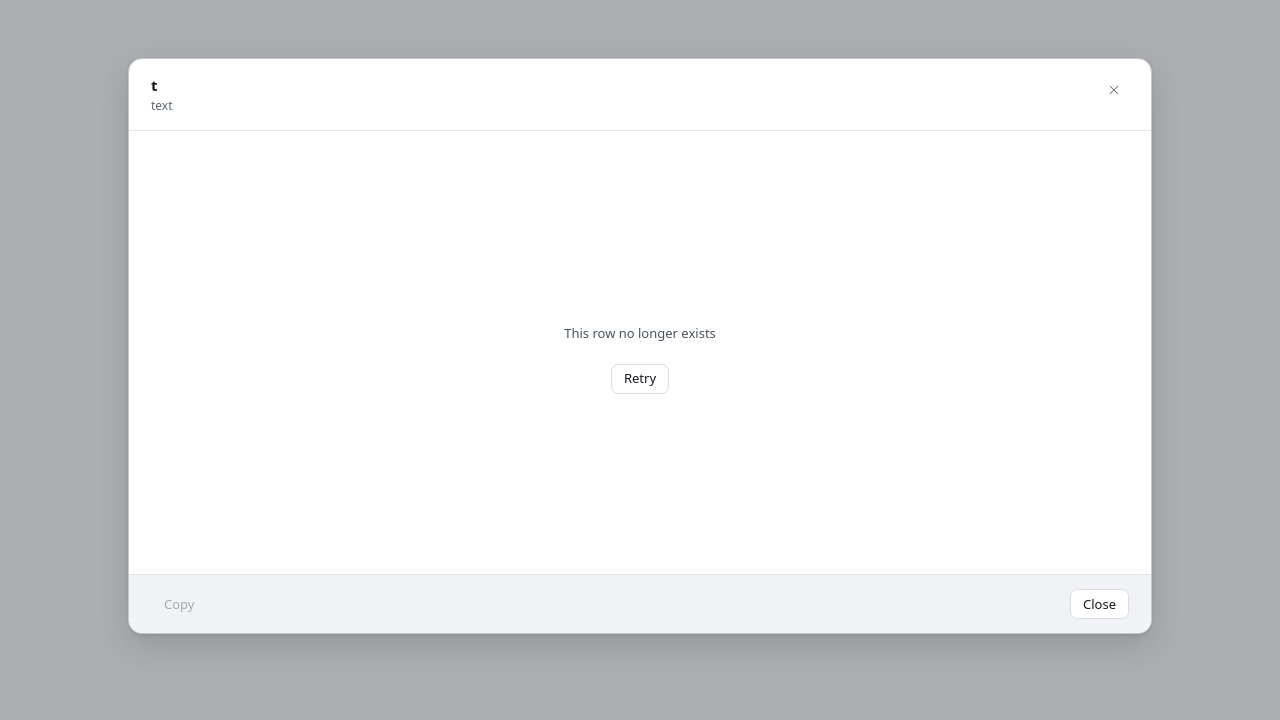
ValueEditor › is read-only with a reason, and shows load errors with Retry
The image size is (1280, 720).
Expected: the text "This row no longer exists" is shown, x1=564 y1=324 x2=716 y2=343
What coordinates should you click on to do the following:
click the button "Retry"
I would click on:
 (640, 379)
Its box is x1=611 y1=364 x2=669 y2=394.
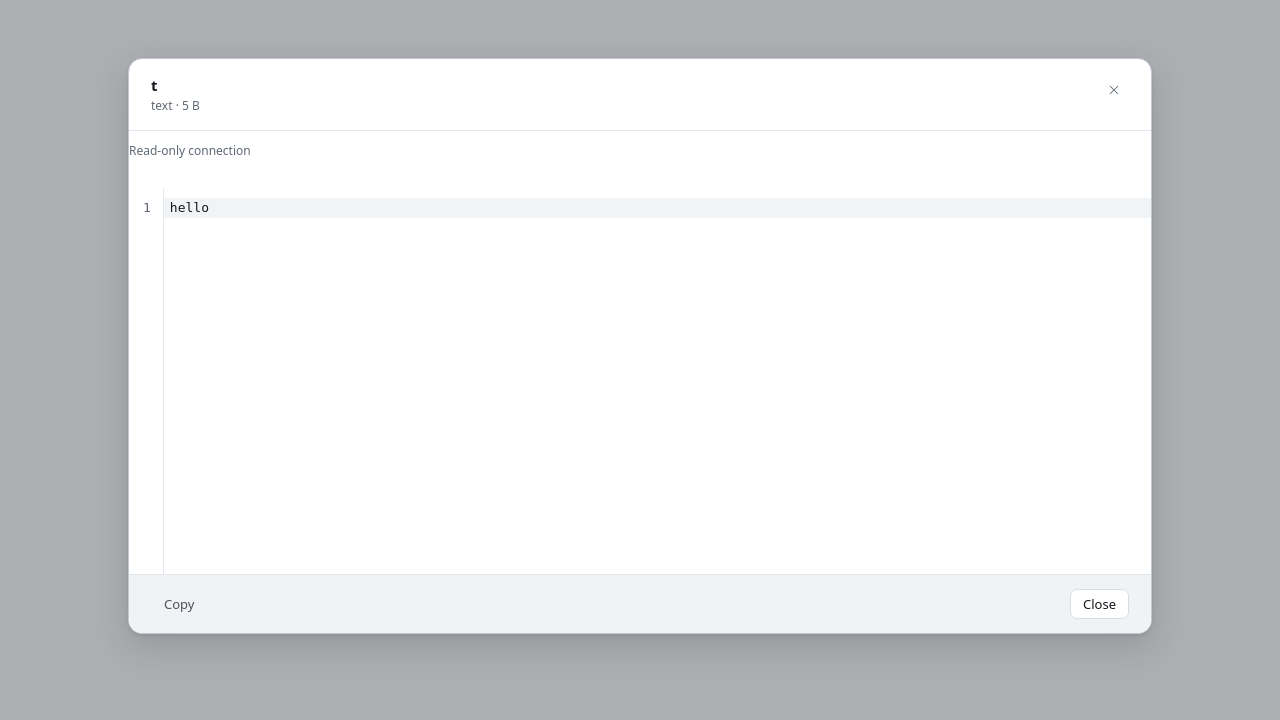
Expected: the text "Read-only connection" is shown, x1=129 y1=142 x2=251 y2=159
